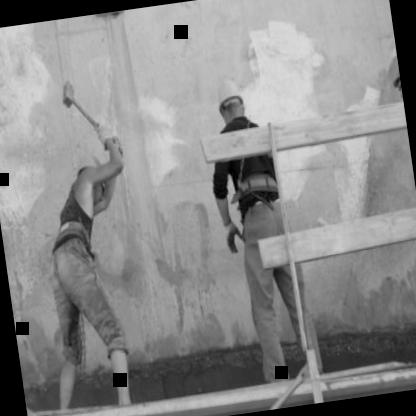helmet: (211, 72, 249, 129), (74, 147, 108, 208), (386, 50, 404, 106)
